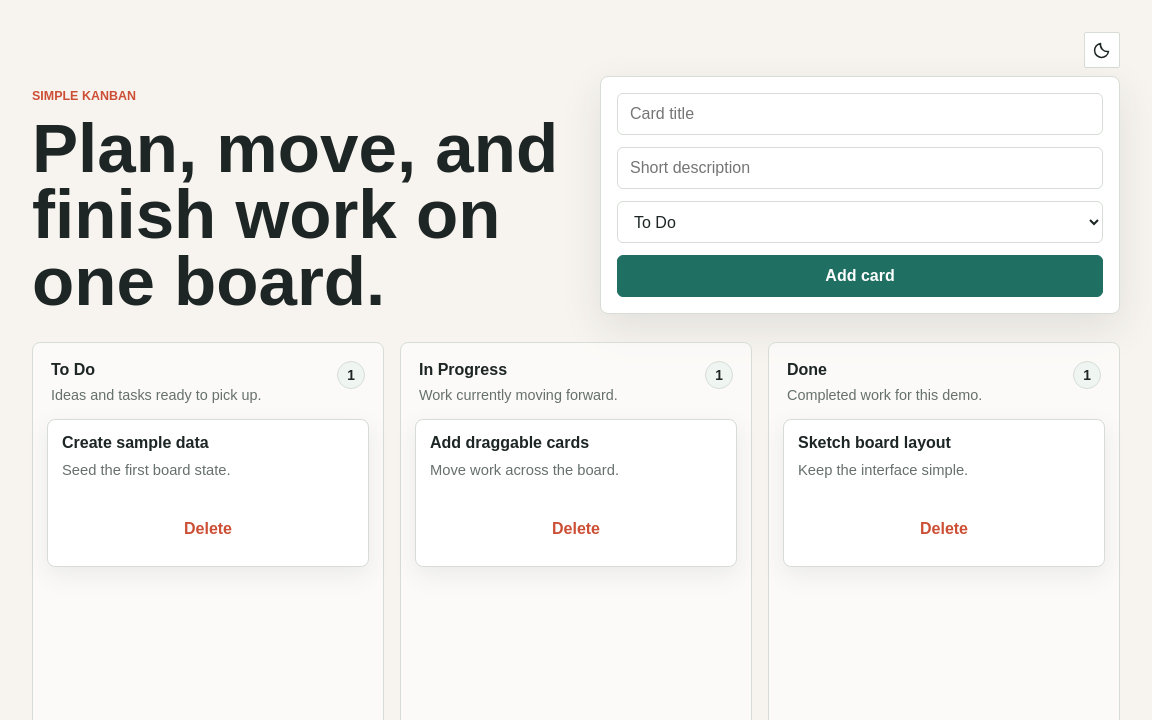
Test case: Kanban home page › adds a new card to the selected column and resets the form
Expected: the heading "Done" is shown, top-left (787, 361), bottom-right (827, 378)
Type "Review test coverage" into the field labelled "Card title".
click(860, 114); type("Review test coverage")  # box top-left (617, 93), bottom-right (1103, 135)
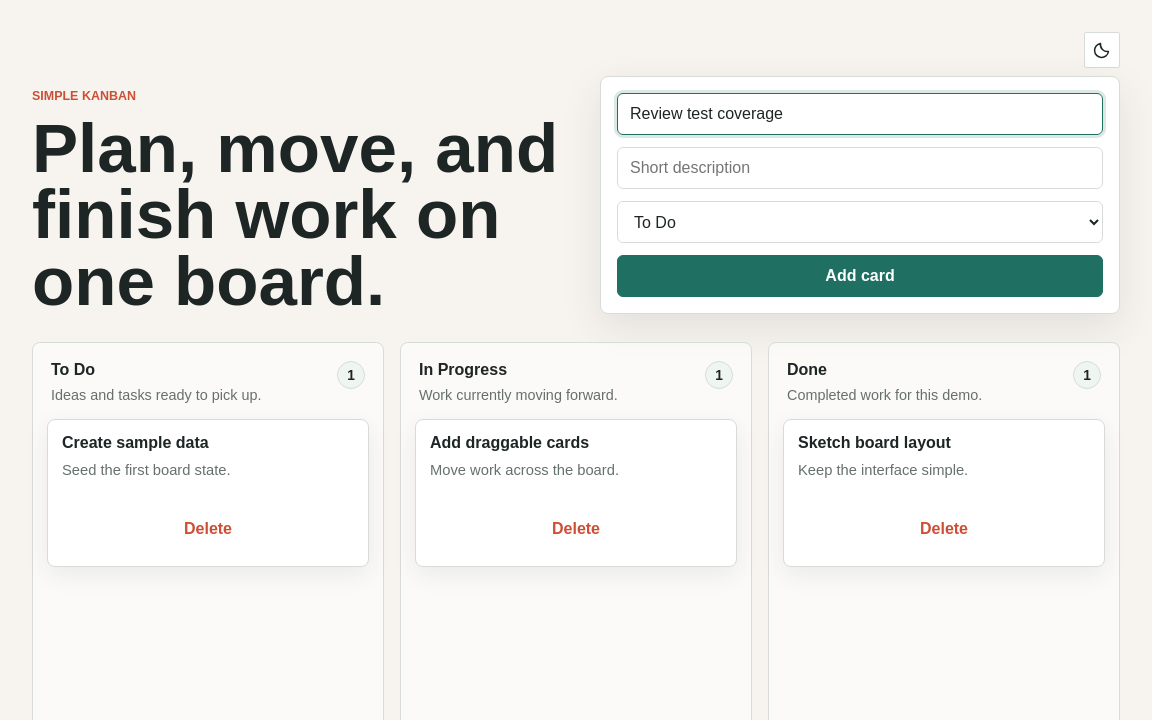
Type "Check the first suite." into the field named "Card description".
click(860, 168); type("Check the first suite.")  # box top-left (617, 147), bottom-right (1103, 189)
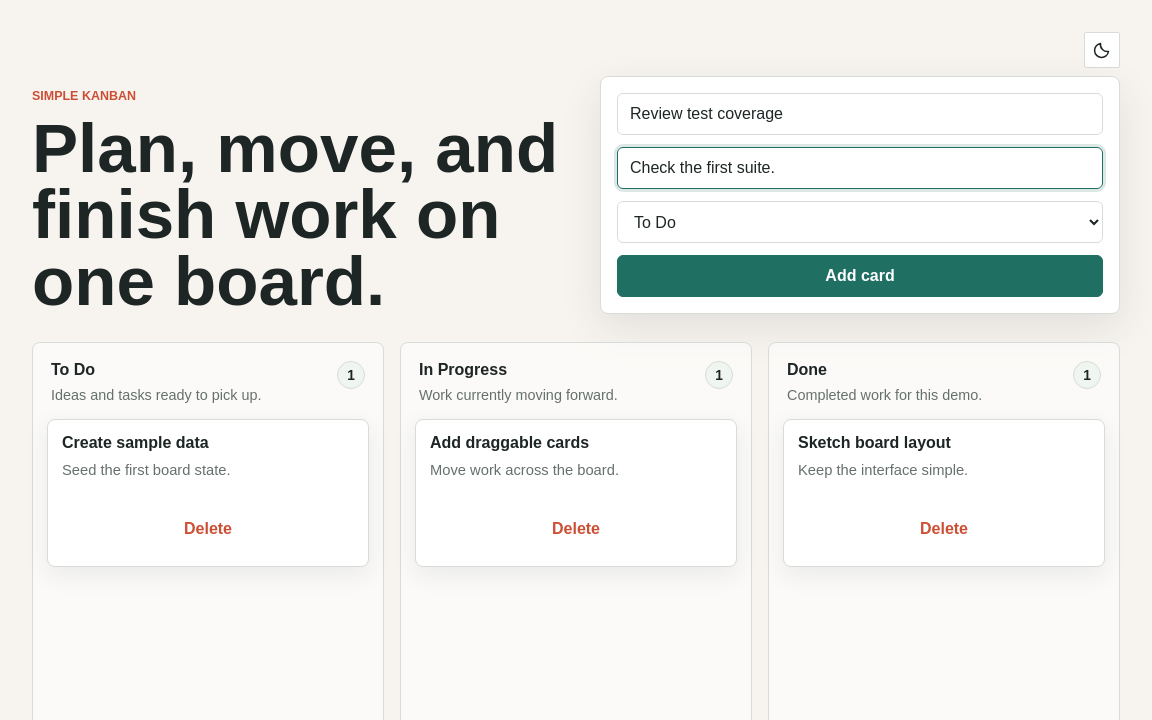
Select "Done" in the dropdown named "Column" at (860, 222), box top-left (617, 201), bottom-right (1103, 243)
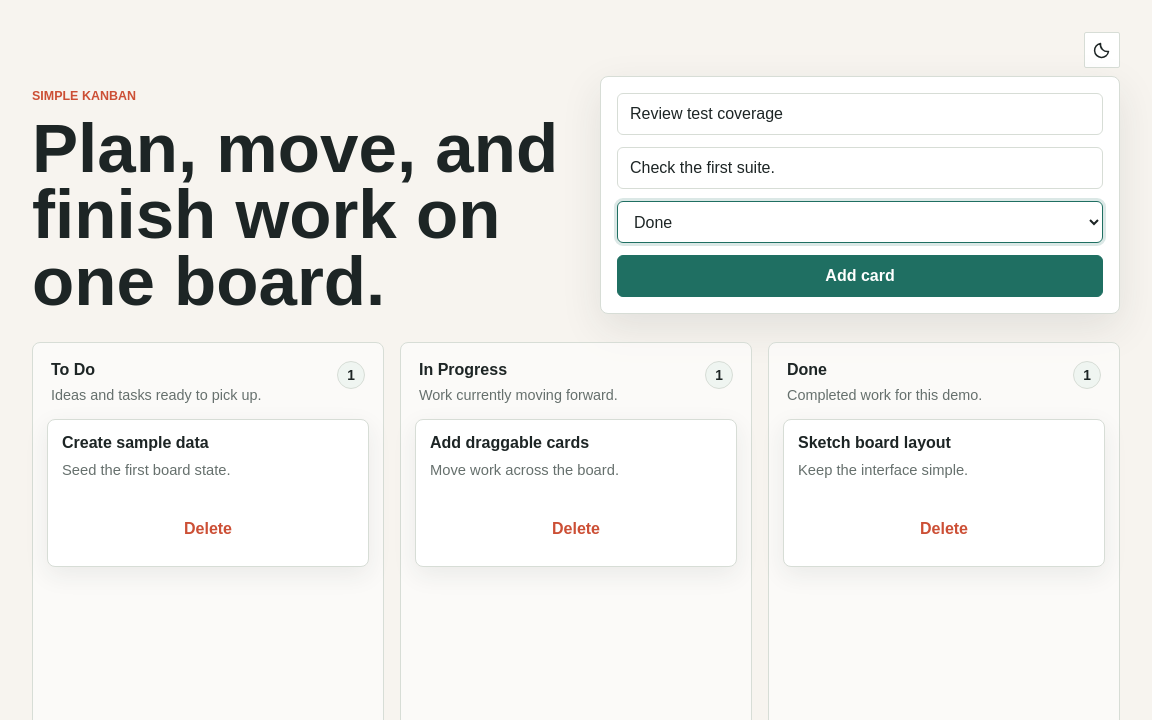
Click the button "Add card".
click(860, 276)  # box top-left (617, 255), bottom-right (1103, 297)
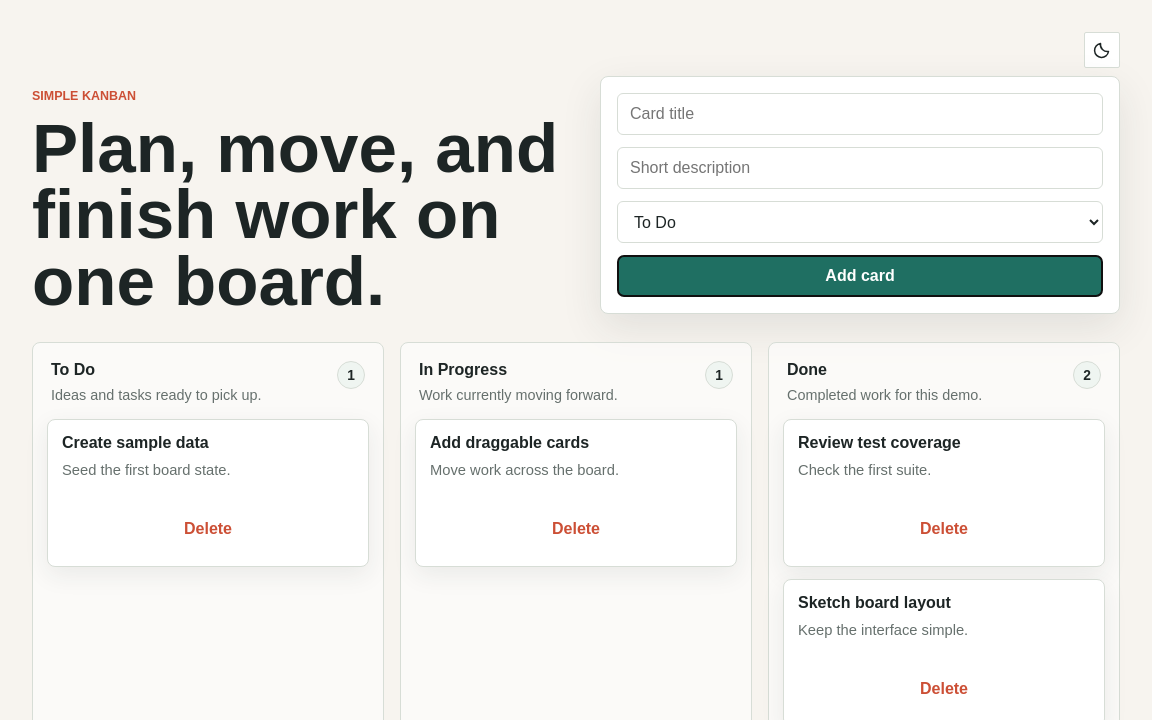
Expected: the heading "Review test coverage" is shown, top-left (798, 434), bottom-right (961, 451)
Expected: the text "Check the first suite." is shown, top-left (798, 462), bottom-right (931, 478)
Expected: the field labelled "Card title" is empty, top-left (617, 93), bottom-right (1103, 135)
